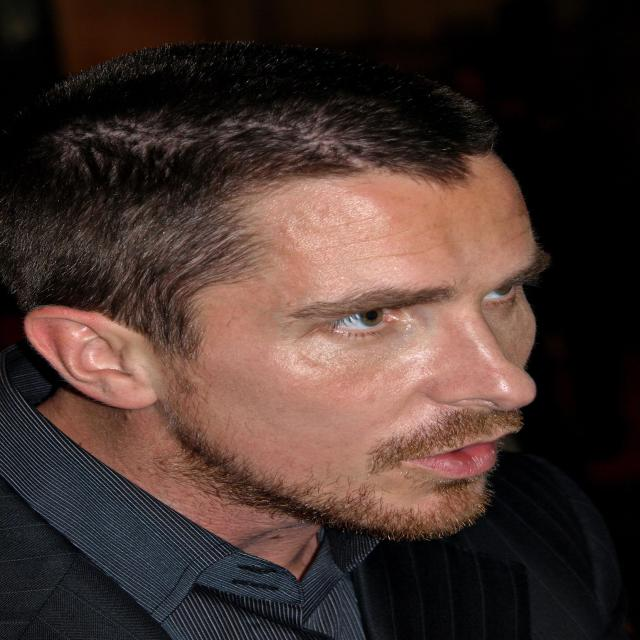no-earmuff: (19, 290, 200, 418)
